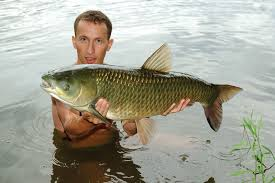carp: (40, 42, 246, 148)
